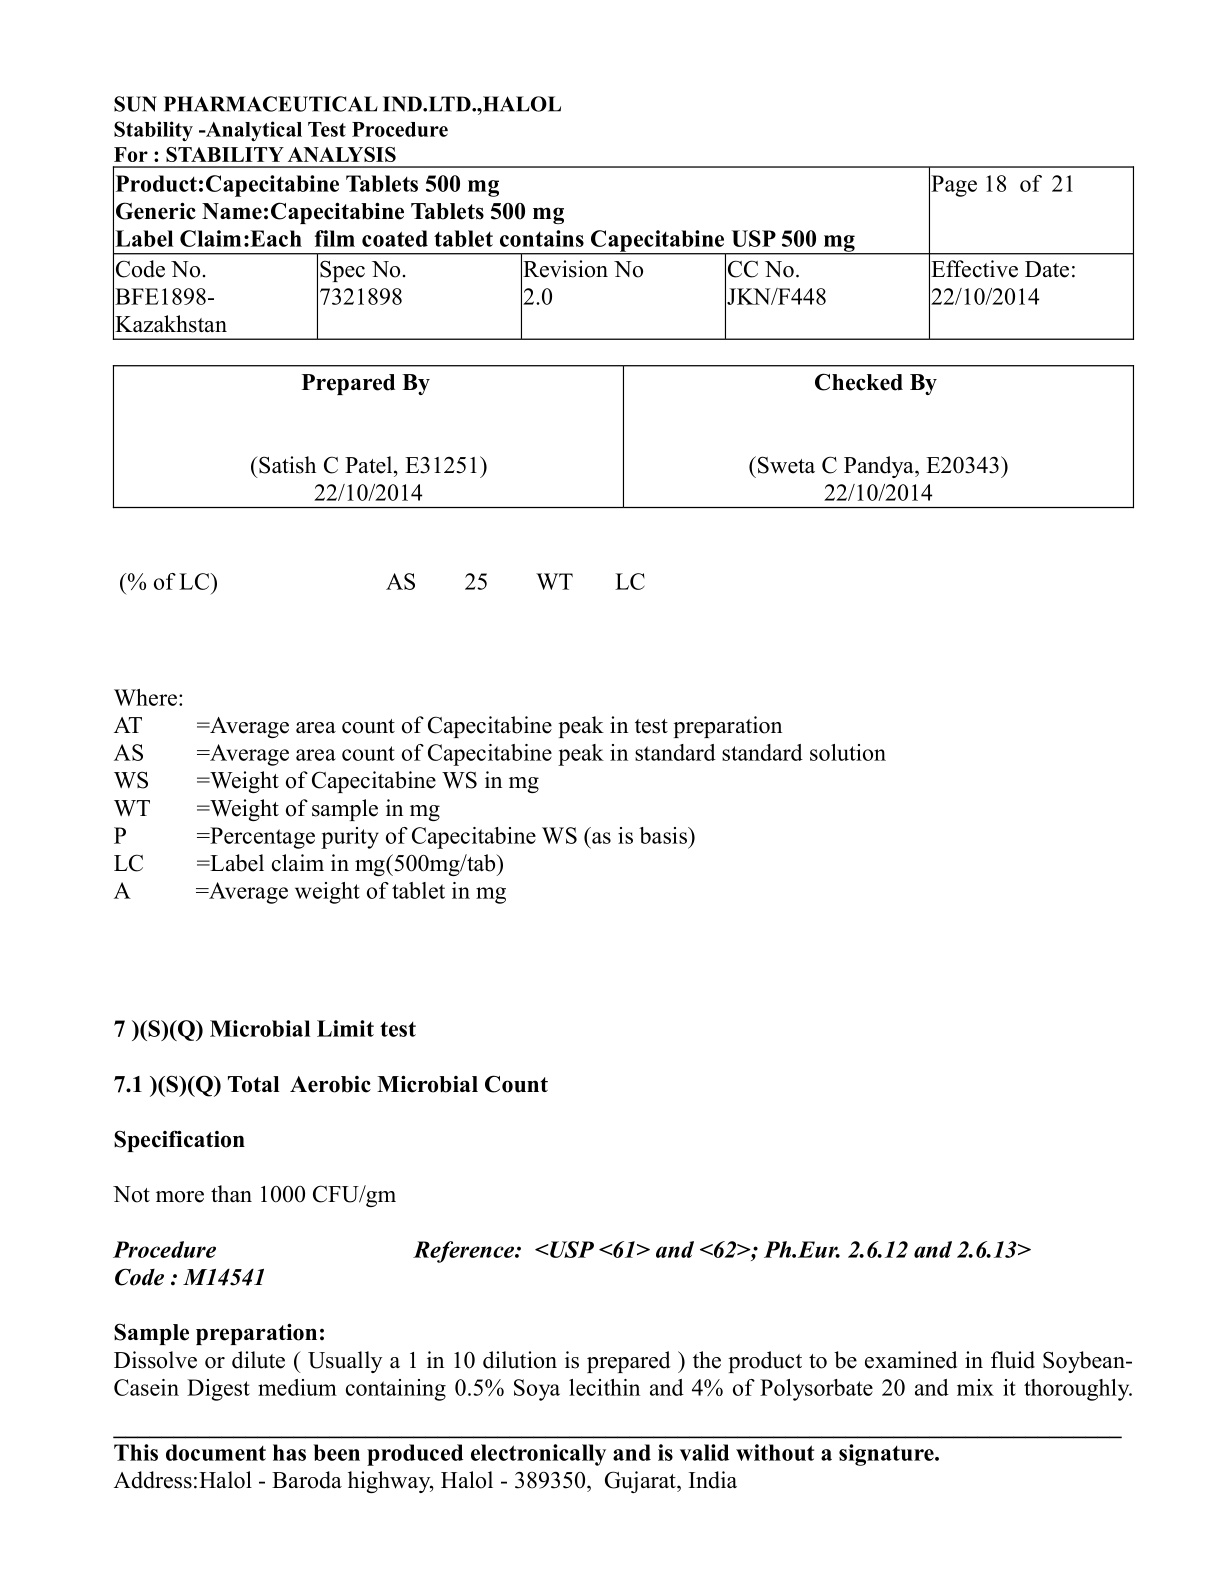full_lined: (111, 363, 1135, 509)
merged_cells: (111, 165, 1135, 342)
nolines: (111, 714, 894, 903)
